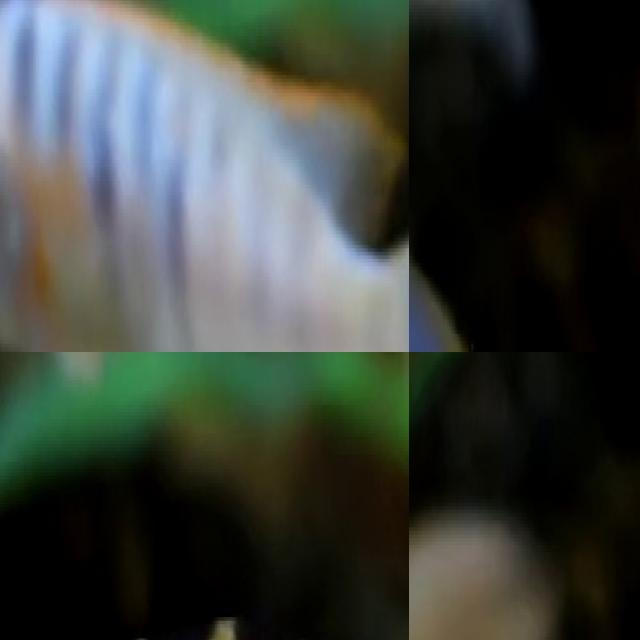fish: (0, 0, 409, 352), (409, 499, 562, 640), (409, 213, 471, 352)
